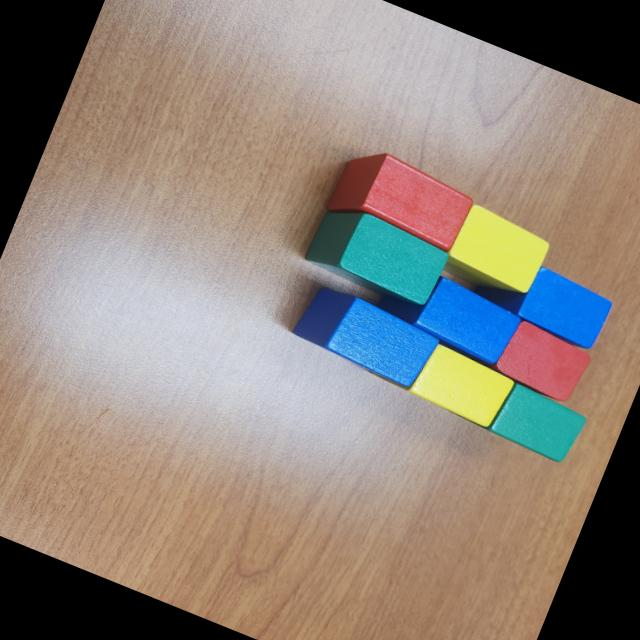blue: (286, 278, 446, 394), (378, 260, 526, 370), (469, 246, 616, 354)
green: (300, 196, 452, 313), (443, 362, 592, 468)
red: (324, 139, 476, 258), (492, 316, 596, 406)
yellow: (367, 324, 518, 432), (439, 200, 554, 306)
